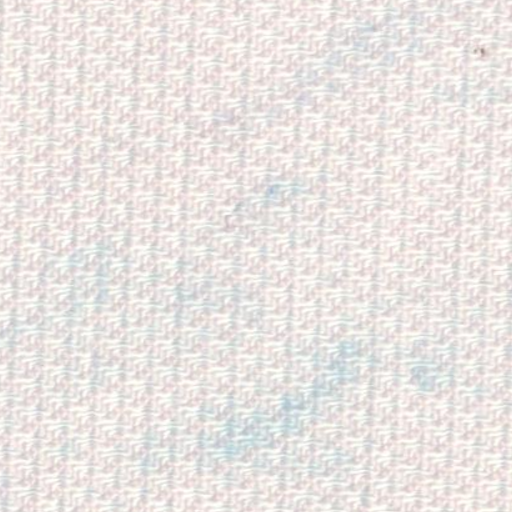WuZi: (192, 302, 461, 472), (44, 202, 137, 338), (281, 11, 433, 82), (212, 150, 328, 218), (460, 34, 500, 72)
